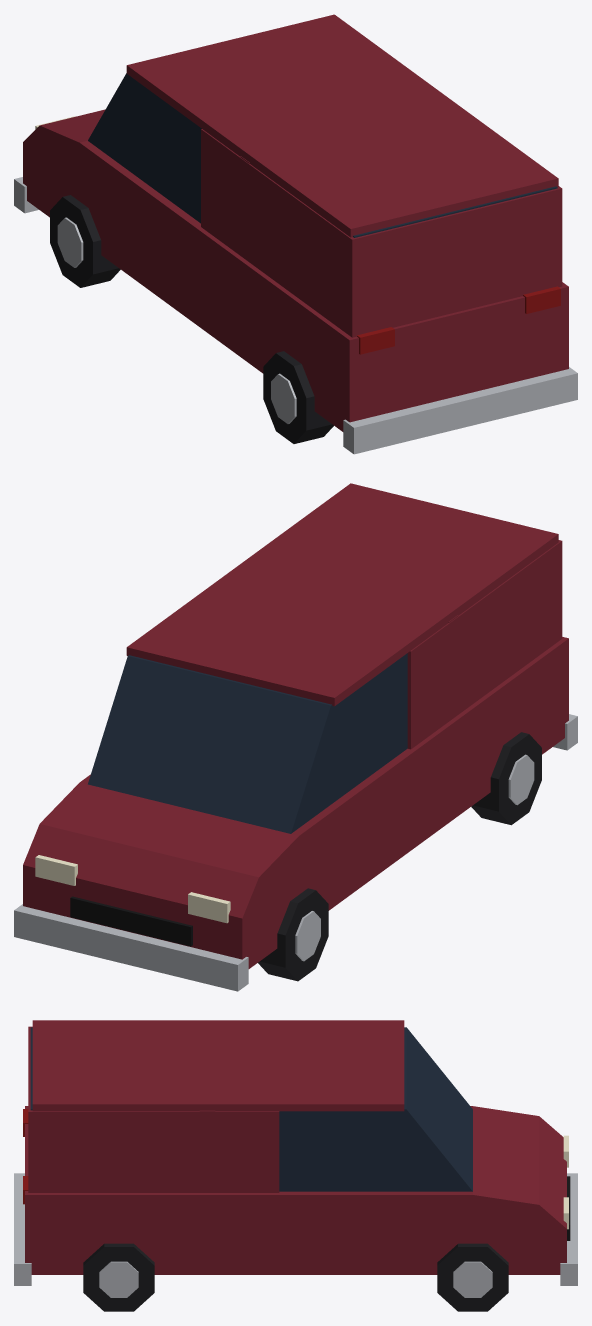
Rendered from CarVanMaroon.obj.
3 views of the same model, one above another, from view 1: azimuth 30°, elevation 25°; view 2: azimuth 150°, elevation 25°; view 3: azimuth 270°, elevation 25° (orthographic). The views are drawn at different scales.
Visible parts, largest first — view 1: CarVanMaroon; view 2: CarVanMaroon; view 3: CarVanMaroon.
Part boxes in pixels (box(x1,y1,x2,y2)): CarVanMaroon: box(14, 14, 577, 454); CarVanMaroon: box(14, 483, 577, 991); CarVanMaroon: box(14, 1020, 577, 1311).
Bounding box in the file's own units: 2.07 × 2.01 × 5.1.
Materials: 1 (1 with a texture image).
